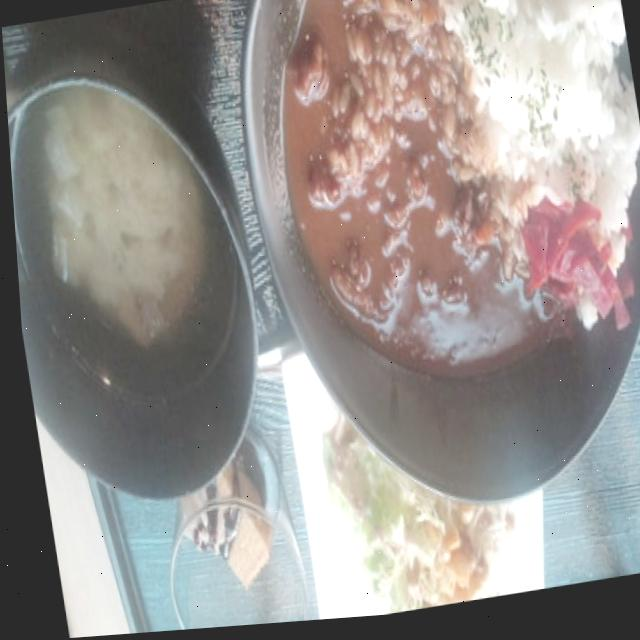汤锅炖物: (3, 35, 280, 521)
牛肉菜式: (216, 0, 640, 533)
蔬菜料理: (305, 412, 533, 624)
